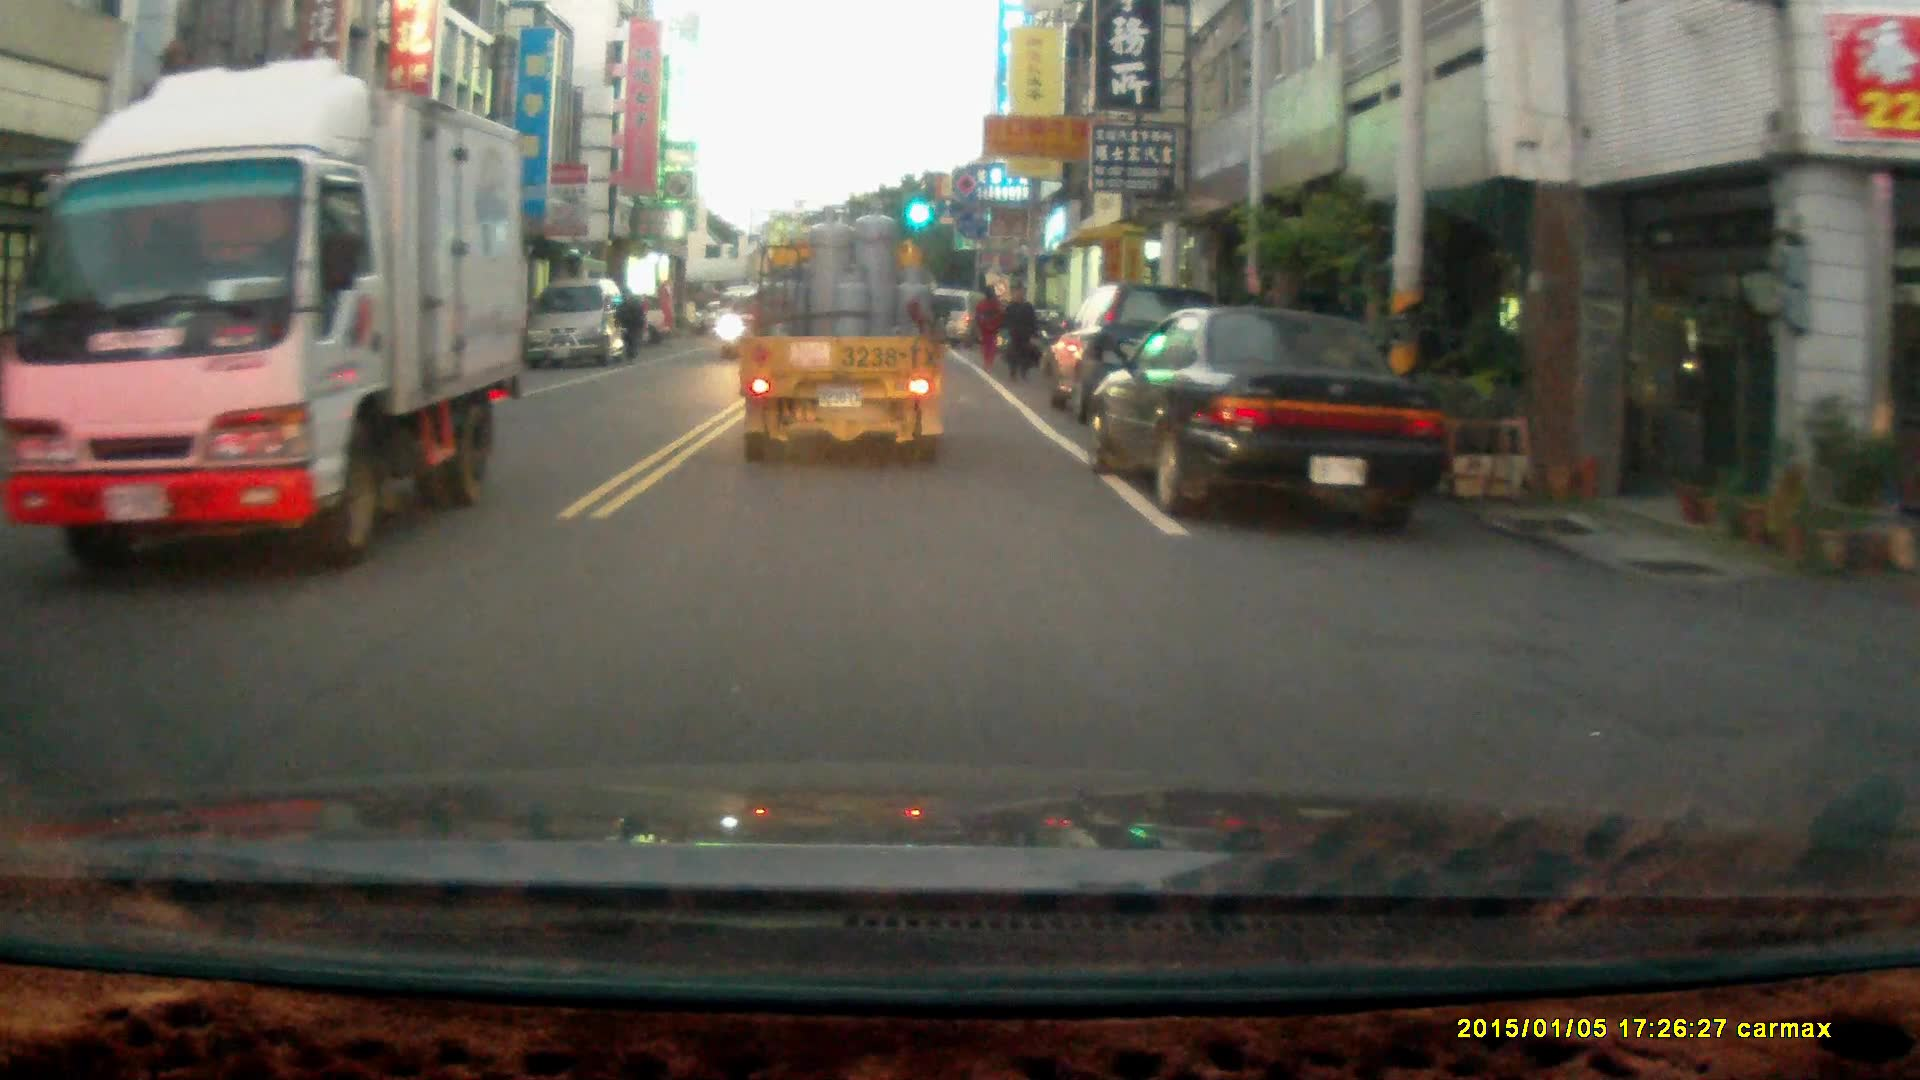pedestrian: (999, 277, 1038, 382), (972, 283, 1007, 367), (614, 286, 645, 361)
vehicle: (1, 59, 532, 564), (1090, 306, 1453, 526), (736, 195, 948, 469), (1046, 279, 1243, 428), (525, 278, 629, 368), (709, 279, 808, 368)
